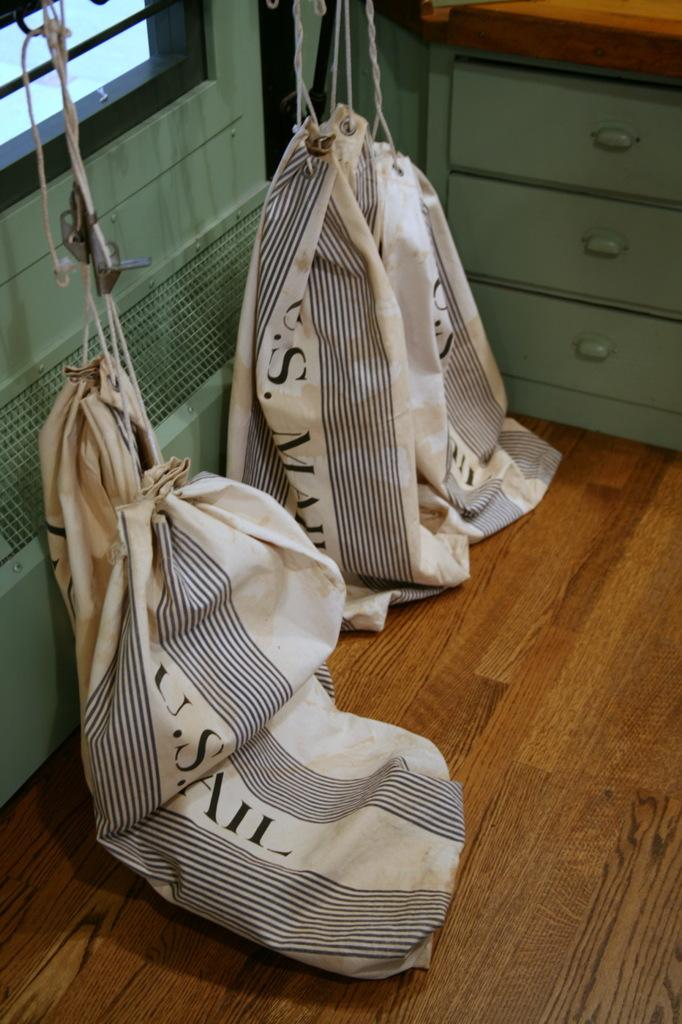cabinet_door: (475, 286, 682, 414), (453, 185, 681, 300), (464, 77, 682, 192)
handle: (598, 125, 635, 172), (585, 233, 623, 270), (577, 333, 610, 371)
